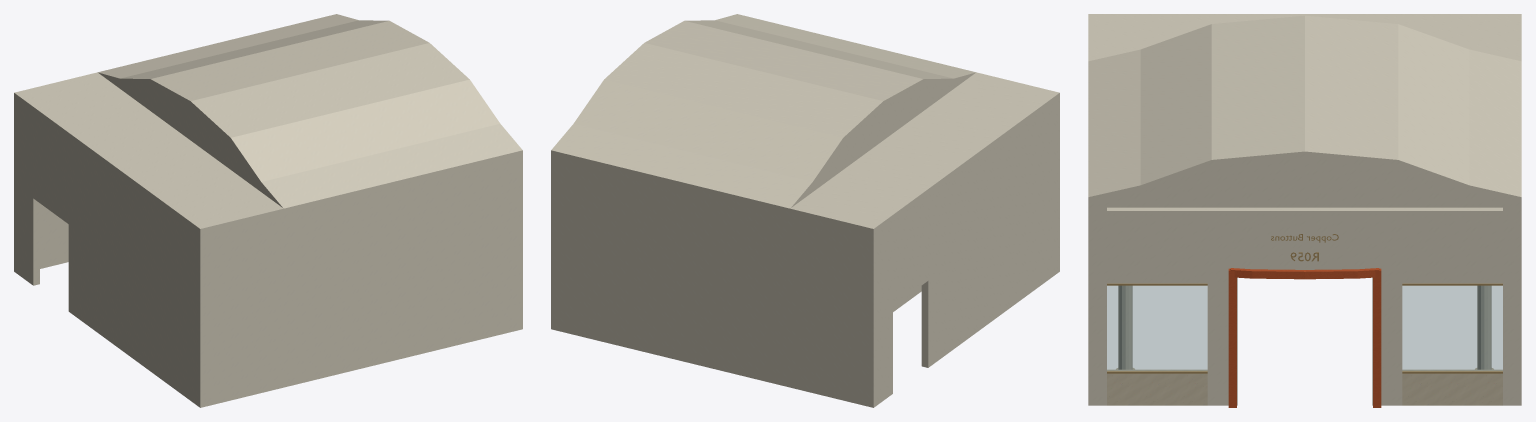
Rendered from SHOP_D09_S72_F184__shell.glb.
3 views of the same model, side by side, from view 1: azimuth 30°, elevation 25°; view 2: azimuth 150°, elevation 25°; view 3: azimuth 270°, elevation 25° (orthographic). The views are drawn at different scales.
Parts seen in each view (by area): view 1: SHOP_D09_S72_F184__shell__ivory_enamel; view 2: SHOP_D09_S72_F184__shell__ivory_enamel; view 3: SHOP_D09_S72_F184__shell__ivory_enamel, SHOP_D09_S72_F184__shell__shop_glass, SHOP_D09_S72_F184__shell__warm_stone, SHOP_D09_S72_F184__shell__retail_terracotta_enamel, SHOP_D09_S72_F184__shell__champagne_metal.
Boxes of the visible parts, left/top/right/bottom form: SHOP_D09_S72_F184__shell__ivory_enamel: left=14, top=14, right=522, bottom=407; SHOP_D09_S72_F184__shell__ivory_enamel: left=551, top=14, right=1059, bottom=407; SHOP_D09_S72_F184__shell__ivory_enamel: left=1088, top=14, right=1521, bottom=405; SHOP_D09_S72_F184__shell__shop_glass: left=1107, top=286, right=1502, bottom=370; SHOP_D09_S72_F184__shell__warm_stone: left=1107, top=368, right=1502, bottom=405; SHOP_D09_S72_F184__shell__retail_terracotta_enamel: left=1228, top=268, right=1381, bottom=407; SHOP_D09_S72_F184__shell__champagne_metal: left=1107, top=234, right=1502, bottom=373.
Size of the model in its own units: 11.86 by 7.5 by 11.6.
6 materials, 4 textured.
